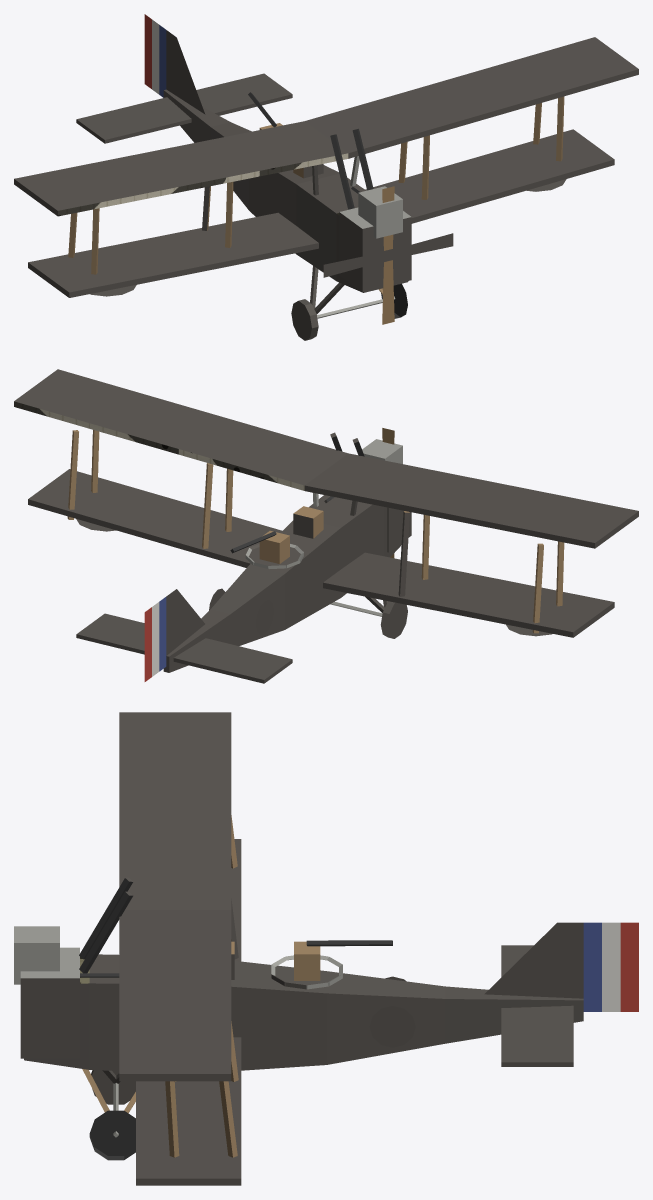
Rendered from wreck.gltf.
3 renders of one model, top to bottom at view 1: azimuth 30°, elevation 25°; view 2: azimuth 150°, elevation 25°; view 3: azimuth 270°, elevation 25°, orthographic. The views are drawn at different scales.
Parts seen in each view (by area): view 1: re8_wreck, re8_wreck.001; view 2: re8_wreck; view 3: re8_wreck.
Boxes of the visible parts, x1,y1,x2,y2 form: re8_wreck: (14, 14, 638, 340); re8_wreck.001: (323, 186, 453, 324); re8_wreck: (14, 369, 638, 683); re8_wreck: (14, 712, 638, 1185).
Bounding box in the file's own units: 32.5 × 10.29 × 23.73.
Materials: 10 (2 with a texture image).
